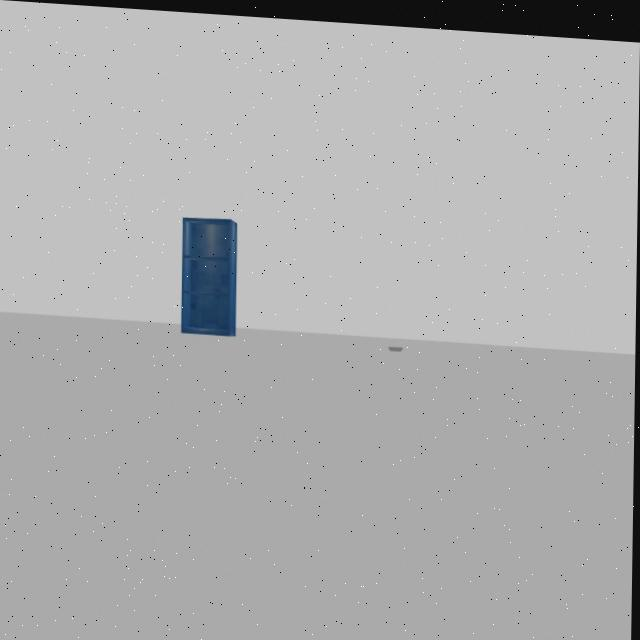bowl: (385, 327, 413, 360)
shelf: (169, 196, 248, 350)
